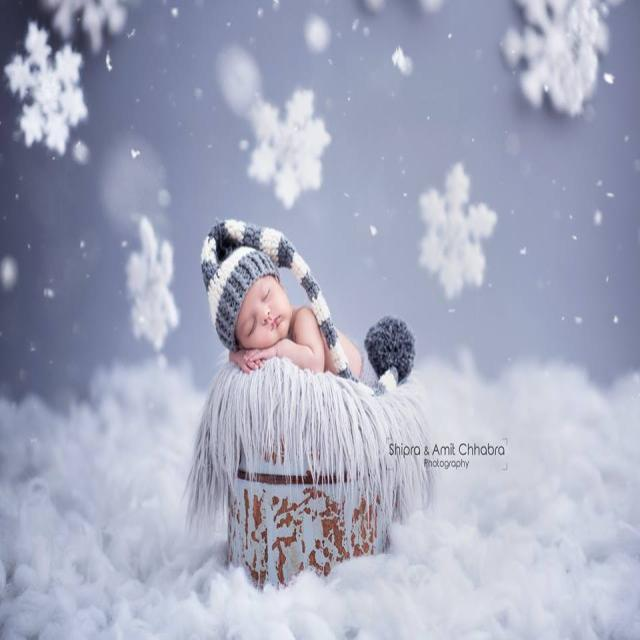non-dog: (198, 208, 419, 395)
